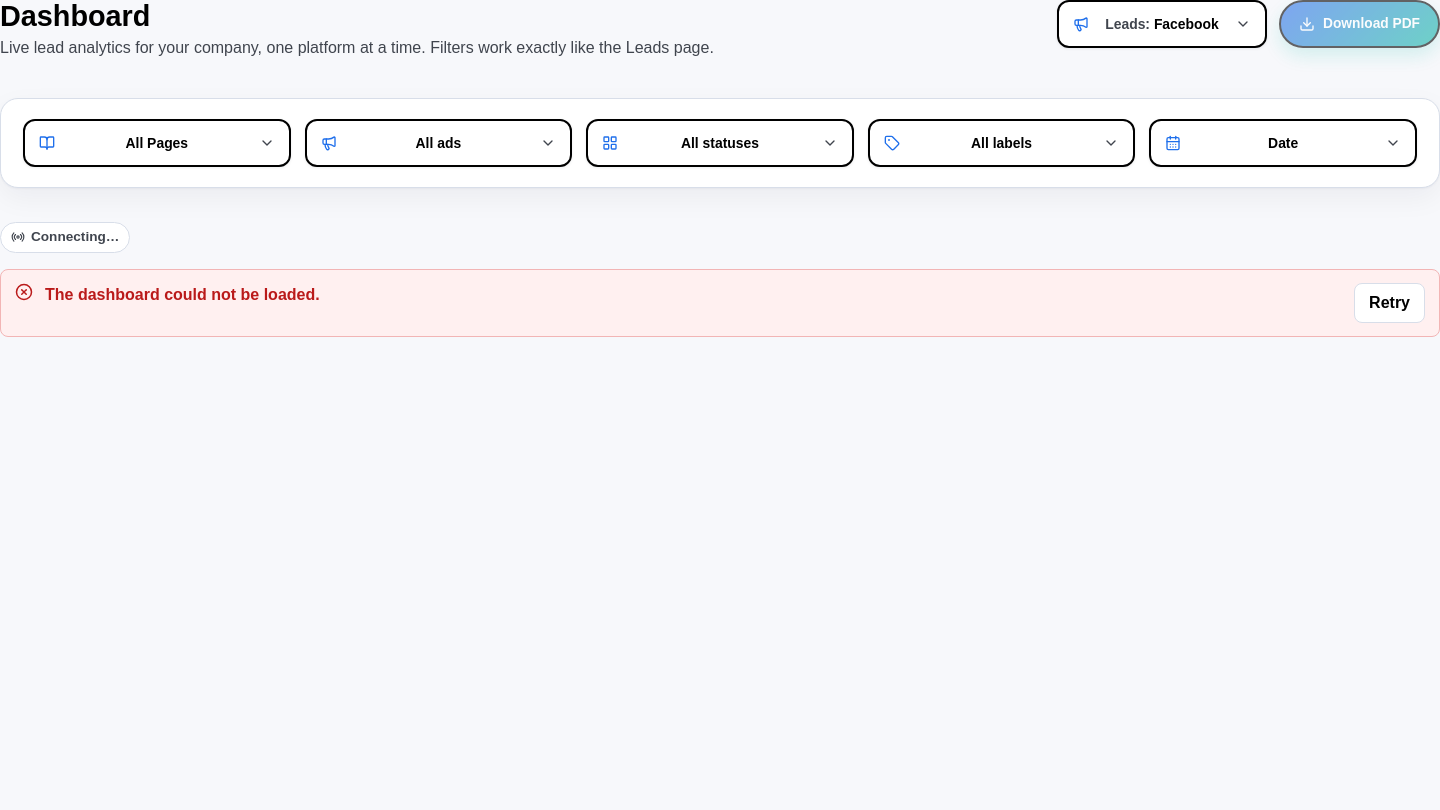
Test case: dashboard page › offers Retry when the aggregate cannot be loaded
Expected: the text "The dashboard could not be loaded." is shown, [45, 286, 320, 303]
Click the button "Retry".
click(1390, 303)  # box [1354, 283, 1425, 323]
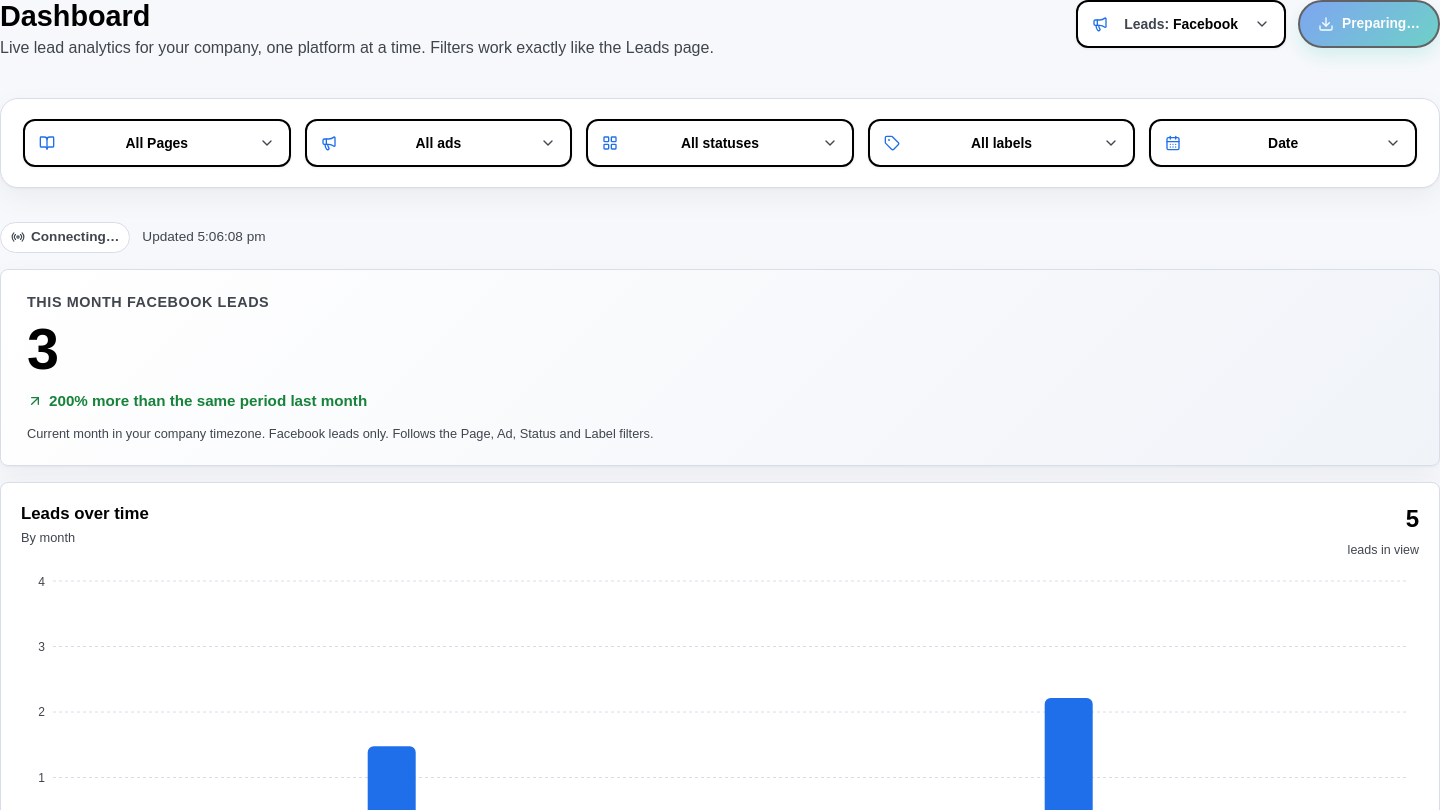
Now the text with test id "month-leads" reads "3", box [27, 317, 59, 381]
